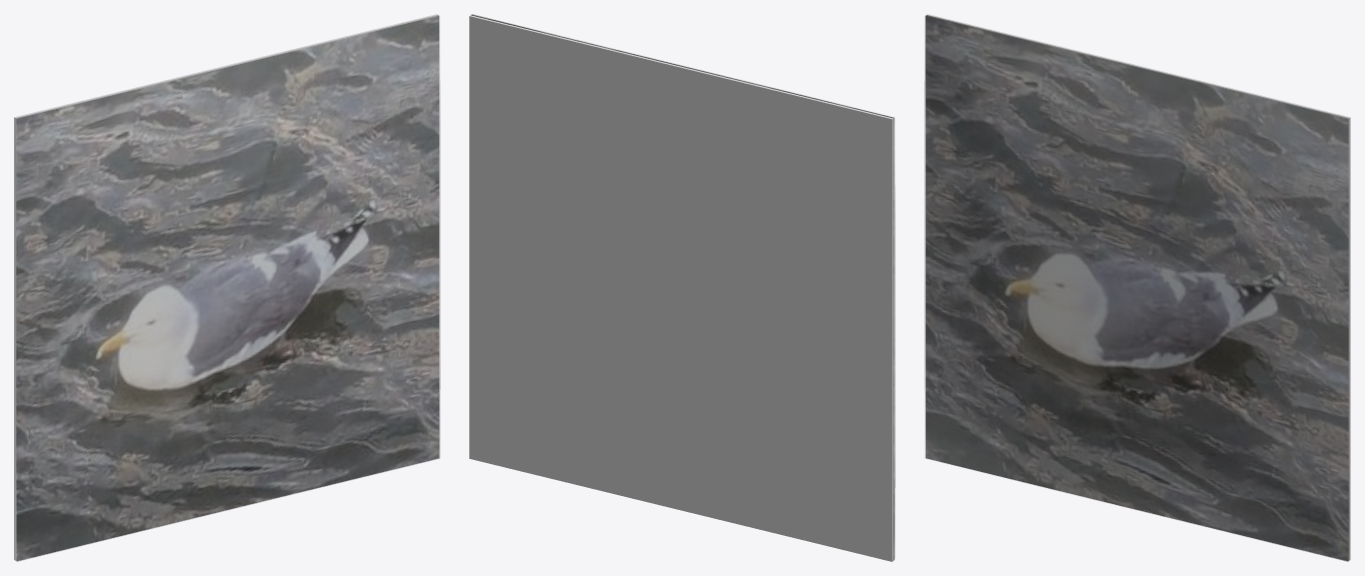
File: sikaku_daidai.glb
3 views of the same model, side by side, from view 1: azimuth 30°, elevation 25°; view 2: azimuth 150°, elevation 25°; view 3: azimuth 330°, elevation 25° (orthographic).
Parts seen in each view (by area): view 1: 平面.001, PHOTO_PLANE, 平面.002; view 2: 平面.002, PHOTO_PLANE, 平面.001; view 3: 平面.001, PHOTO_PLANE, 平面.002.
Boxes of the visible parts, x1=… form: 平面.001: x1=15, y1=15, x2=440, y2=561; PHOTO_PLANE: x1=16, y1=15, x2=439, y2=561; 平面.002: x1=14, y1=14, x2=438, y2=560; 平面.002: x1=469, y1=15, x2=893, y2=561; PHOTO_PLANE: x1=471, y1=14, x2=894, y2=559; 平面.001: x1=471, y1=14, x2=895, y2=559; 平面.001: x1=924, y1=15, x2=1349, y2=561; PHOTO_PLANE: x1=925, y1=15, x2=1348, y2=561; 平面.002: x1=926, y1=14, x2=1350, y2=560.
Size of the model in its own units: 2 by 2 by 0.0897.
3 materials, 1 textured.
